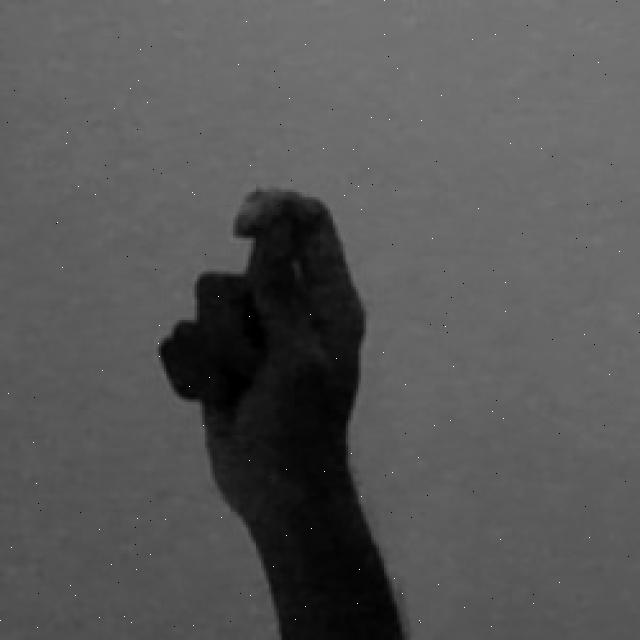T: (152, 183, 416, 640)
